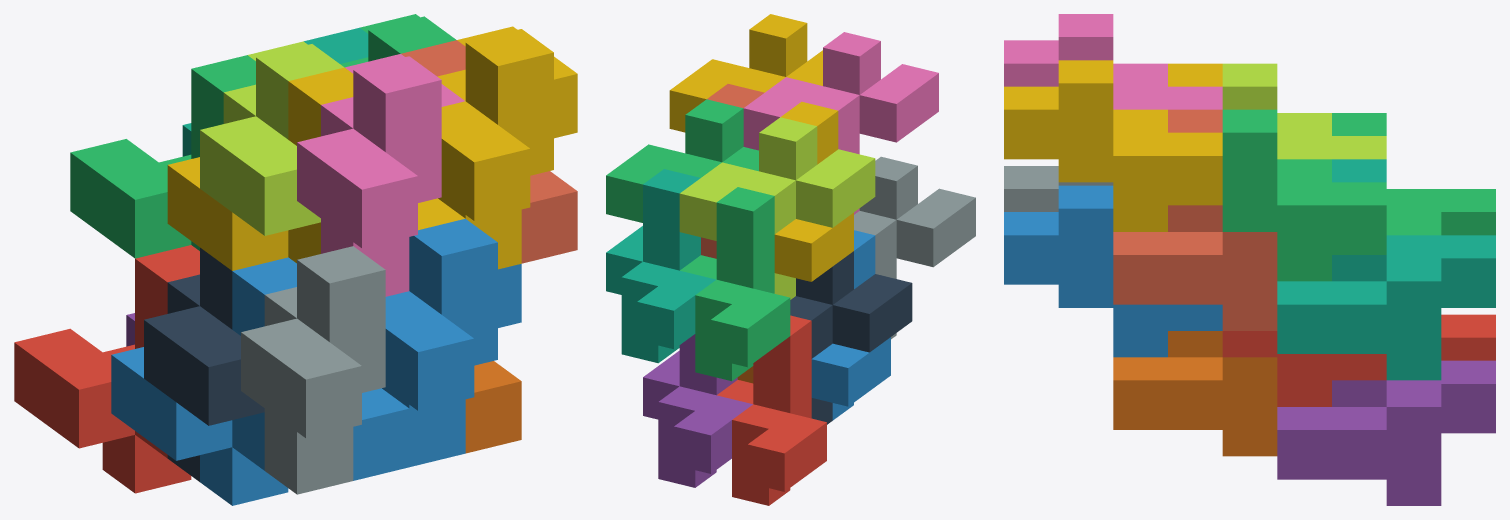
The model's file is tiling.obj.
3 views of the same model, side by side, from view 1: azimuth 30°, elevation 25°; view 2: azimuth 150°, elevation 25°; view 3: azimuth 270°, elevation 25° (orthographic). The views are drawn at different scales.
Visible parts, largest first — view 1: copy_2_domain_2, copy_2_domain_4, copy_2_domain_6, copy_2_domain_8, copy_1_domain_2, copy_1_domain_1, copy_2_domain_3, copy_1_domain_3, copy_2_domain_1, copy_1_domain_4, copy_1_domain_8, copy_1_domain_6 (+2 smaller); view 2: copy_1_domain_3, copy_2_domain_3, copy_1_domain_7, copy_1_domain_1, copy_2_domain_4, copy_1_domain_5, copy_2_domain_2, copy_2_domain_1, copy_2_domain_7, copy_2_domain_8, copy_1_domain_4, copy_1_domain_2 (+1 smaller); view 3: copy_1_domain_7, copy_2_domain_8, copy_1_domain_5, copy_2_domain_7, copy_1_domain_8, copy_2_domain_6, copy_1_domain_6, copy_2_domain_4, copy_2_domain_3, copy_1_domain_3, copy_2_domain_5, copy_2_domain_2 (+2 smaller).
Boxes of the visible parts, <box> form: copy_2_domain_2: <box>241,246,385,494</box>; copy_2_domain_4: <box>297,54,464,296</box>; copy_2_domain_6: <box>382,218,521,467</box>; copy_2_domain_8: <box>437,26,577,269</box>; copy_1_domain_2: <box>111,257,409,505</box>; copy_1_domain_1: <box>14,245,199,493</box>; copy_2_domain_3: <box>200,41,344,235</box>; copy_1_domain_3: <box>70,55,255,258</box>; copy_2_domain_1: <box>144,247,264,481</box>; copy_1_domain_4: <box>167,67,464,270</box>; copy_1_domain_8: <box>401,40,577,263</box>; copy_1_domain_6: <box>465,361,521,453</box>; copy_1_domain_3: <box>680,187,790,381</box>; copy_2_domain_3: <box>679,117,875,299</box>; copy_1_domain_7: <box>606,169,715,363</box>; copy_1_domain_1: <box>717,315,826,505</box>; copy_2_domain_4: <box>743,32,938,214</box>; copy_1_domain_5: <box>643,334,752,487</box>; copy_2_domain_2: <box>854,156,975,339</box>; copy_2_domain_1: <box>790,251,912,424</box>; copy_2_domain_7: <box>606,99,758,222</box>; copy_2_domain_8: <box>669,14,822,132</box>; copy_1_domain_4: <box>774,101,853,281</box>; copy_1_domain_2: <box>811,230,890,420</box>; copy_1_domain_7: <box>1277,159,1495,380</box>; copy_2_domain_8: <box>1004,60,1222,231</box>; copy_1_domain_5: <box>1277,360,1495,505</box>; copy_2_domain_7: <box>1222,109,1386,281</box>; copy_1_domain_8: <box>1113,109,1277,330</box>; copy_2_domain_6: <box>1004,185,1222,357</box>; copy_1_domain_6: <box>1113,331,1277,456</box>; copy_2_domain_4: <box>1004,14,1222,109</box>; copy_2_domain_3: <box>1222,63,1386,159</box>; copy_1_domain_3: <box>1332,113,1495,235</box>; copy_2_domain_5: <box>1222,331,1386,406</box>; copy_2_domain_2: <box>1004,166,1113,211</box>.
Bounding box in the file's own units: 6 × 9 × 9.
